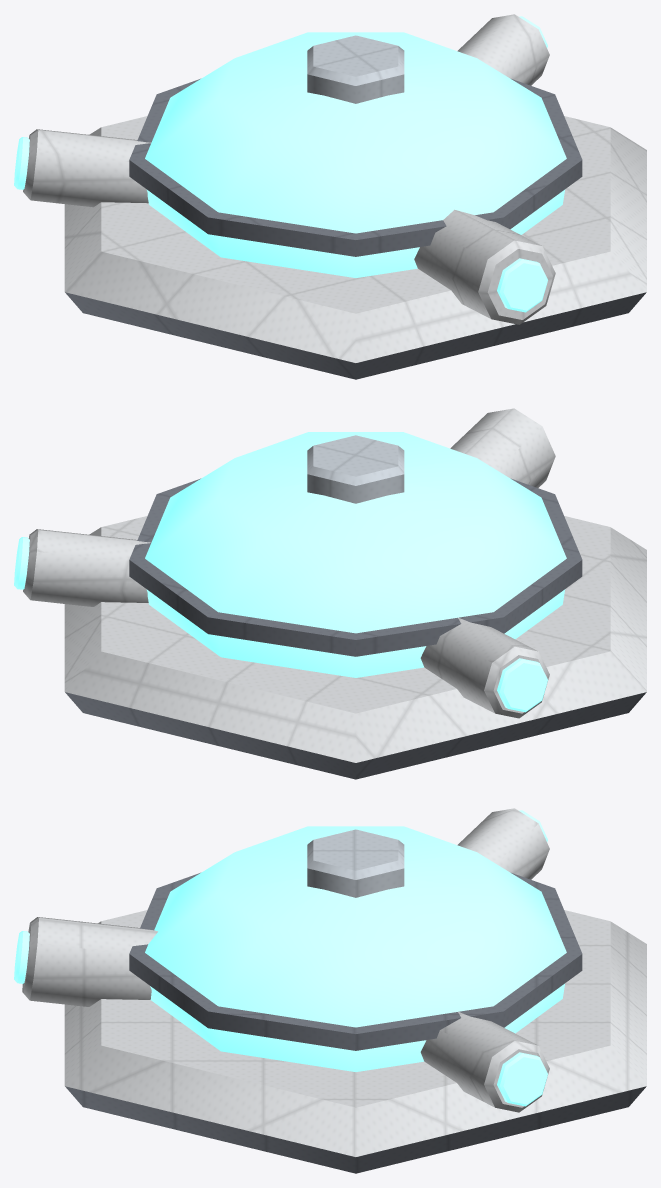
File: R4D_SlowTrap_LOD1.glb
The picture shows the model from 3 angles, top to bottom: view 1: azimuth 30°, elevation 25°; view 2: azimuth 150°, elevation 25°; view 3: azimuth 270°, elevation 25°; orthographic projection.
Visible parts, largest first — view 1: R4D_SlowTrap_LOD1; view 2: R4D_SlowTrap_LOD1; view 3: R4D_SlowTrap_LOD1.
Part boxes in pixels (x1,y1,x2,y2): R4D_SlowTrap_LOD1: (14, 14, 646, 379); R4D_SlowTrap_LOD1: (14, 408, 646, 779); R4D_SlowTrap_LOD1: (14, 808, 646, 1173).
Size of the model in its own units: 0.48 by 0.15 by 0.452.
Materials: 5 (4 with a texture image).
